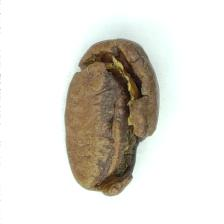NG: (71, 39, 158, 193)
